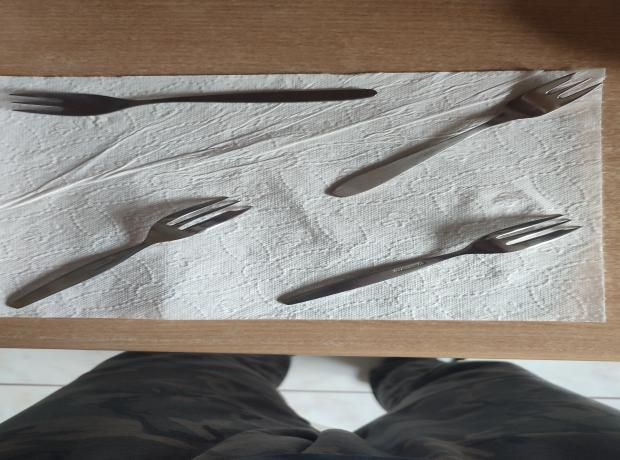metal: (326, 73, 604, 197), (7, 195, 255, 310), (277, 214, 584, 304), (10, 88, 380, 116)
